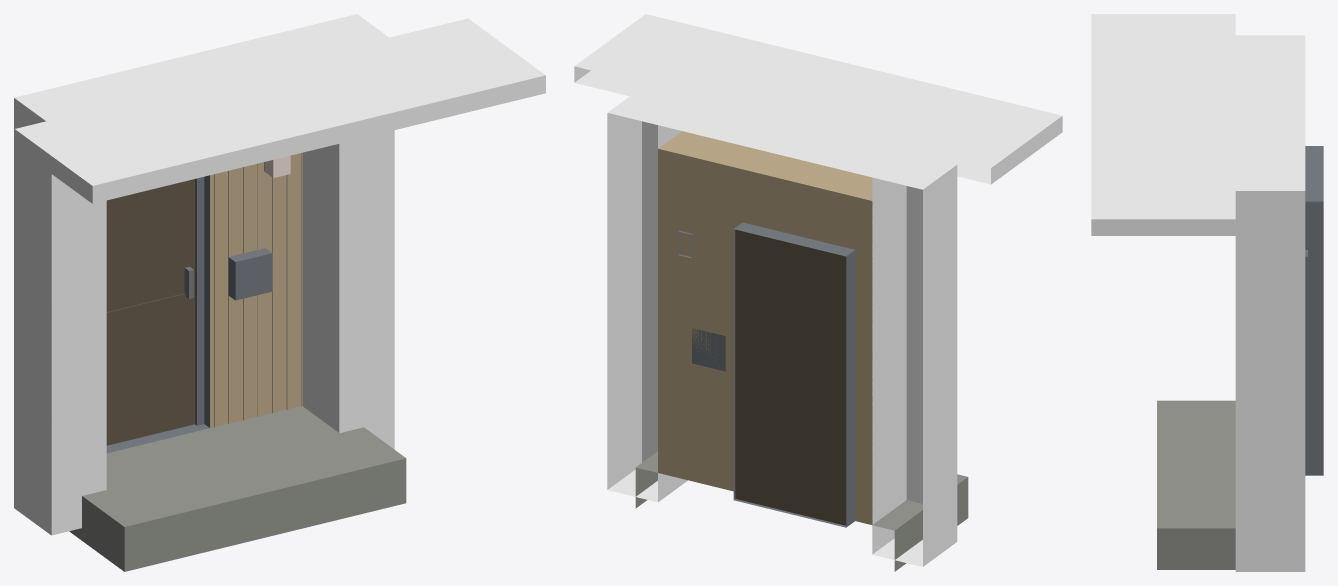
Rendered from entrance_close.fbx.
3 renders of one model, left to right at view 1: azimuth 30°, elevation 25°; view 2: azimuth 150°, elevation 25°; view 3: azimuth 270°, elevation 25°, orthographic. The views are drawn at different scales.
Visible parts, largest first — view 1: a2000s3/200/entrance_close; view 2: a2000s3/200/entrance_close; view 3: a2000s3/200/entrance_close.
Part boxes in pixels (left/top/right/bottom): a2000s3/200/entrance_close: left=14, top=14, right=545, bottom=571; a2000s3/200/entrance_close: left=574, top=14, right=1062, bottom=571; a2000s3/200/entrance_close: left=1091, top=14, right=1323, bottom=571.
Bounding box in the file's own units: 3.7 × 3.34 × 1.77.
